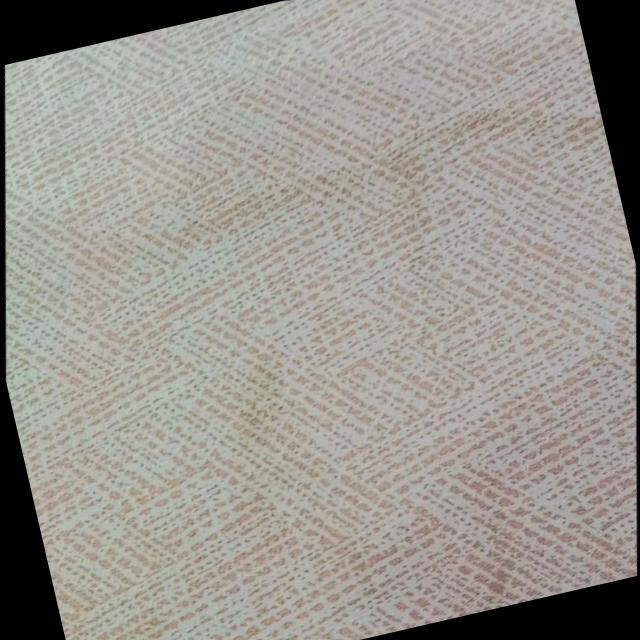stain: (118, 45, 624, 327), (407, 435, 578, 620), (200, 323, 324, 459)
